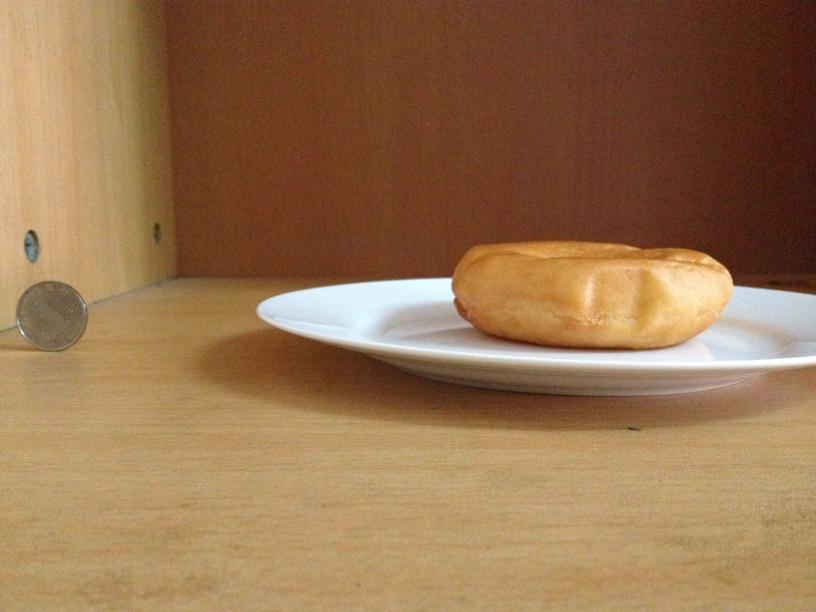coin: (18, 279, 87, 352)
doughnut: (459, 239, 732, 350)
